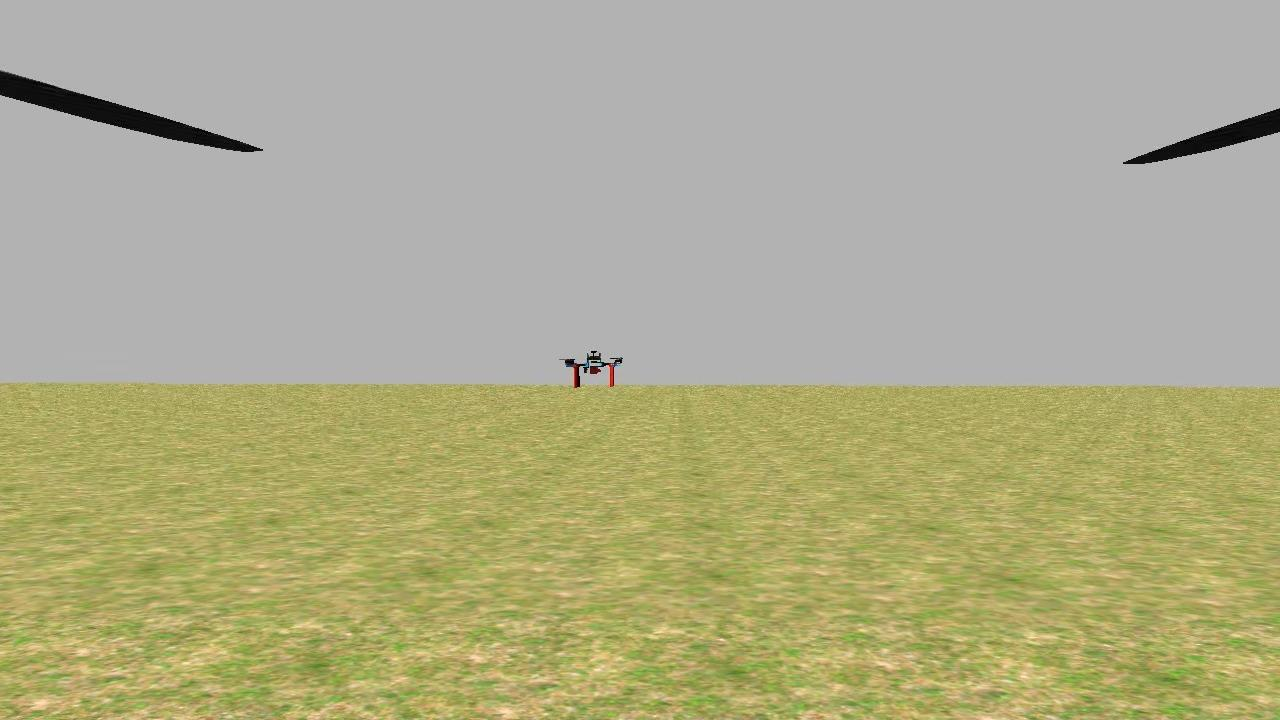UAV: (557, 344, 634, 392)
